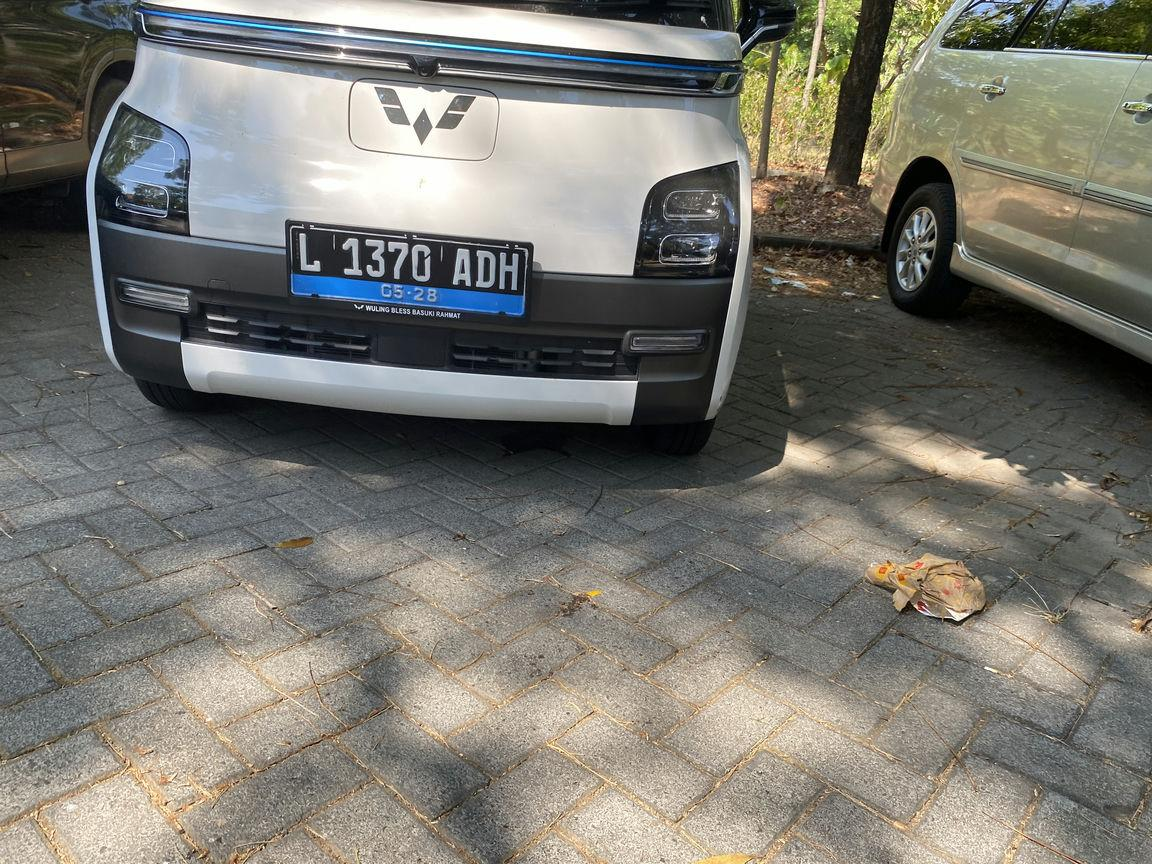plat: (286, 223, 531, 317)
